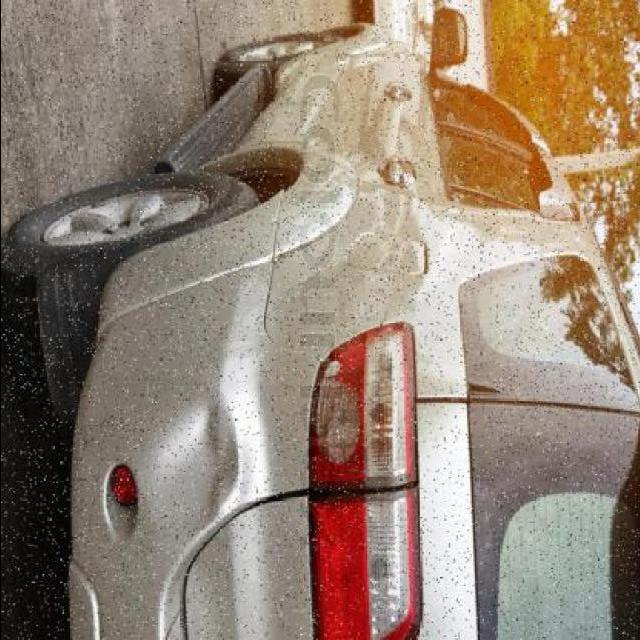rear-bumper-dent: (0, 191, 301, 640)
